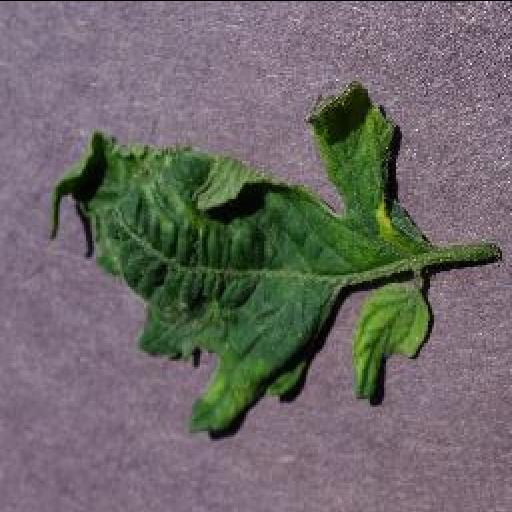Mosaic Virus: (41, 78, 435, 432)
